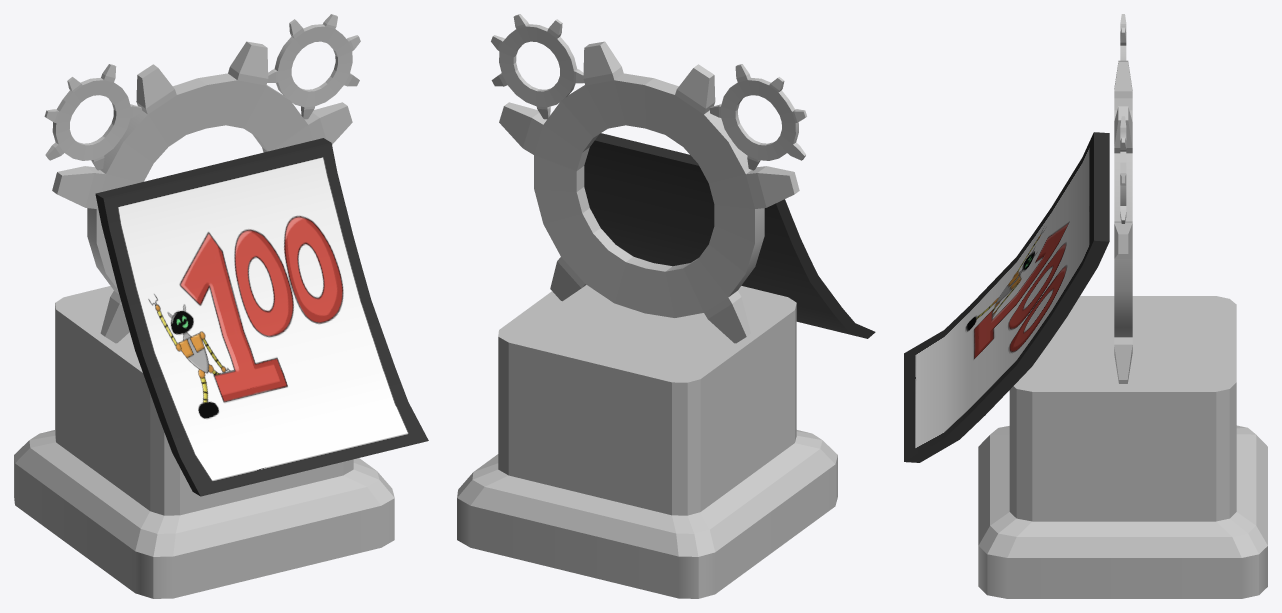
The model's file is 100 Gears Trophy.fbx.
The picture shows the model from 3 angles, left to right: view 1: azimuth 30°, elevation 25°; view 2: azimuth 150°, elevation 25°; view 3: azimuth 270°, elevation 25°; orthographic projection. The views are drawn at different scales.
Parts seen in each view (by area): view 1: Gears_Trophy:polySurface1, Post_It; view 2: Gears_Trophy:polySurface1, Post_It; view 3: Gears_Trophy:polySurface1, Post_It.
Boxes of the visible parts, box(x1,y1,x2,y2) form: Gears_Trophy:polySurface1: box(14, 14, 394, 598); Post_It: box(95, 138, 428, 496); Gears_Trophy:polySurface1: box(457, 14, 837, 598); Post_It: box(584, 133, 875, 338); Gears_Trophy:polySurface1: box(978, 14, 1267, 598); Post_It: box(904, 132, 1109, 462).
Bounding box in the file's own units: 0.4992 × 0.7229 × 0.5125.
